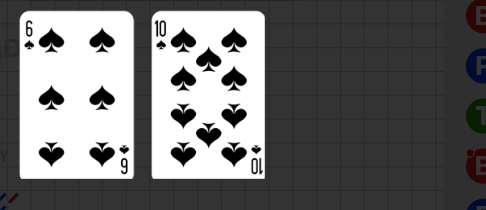10S: (249, 142, 264, 176)
6S: (23, 19, 36, 53)
